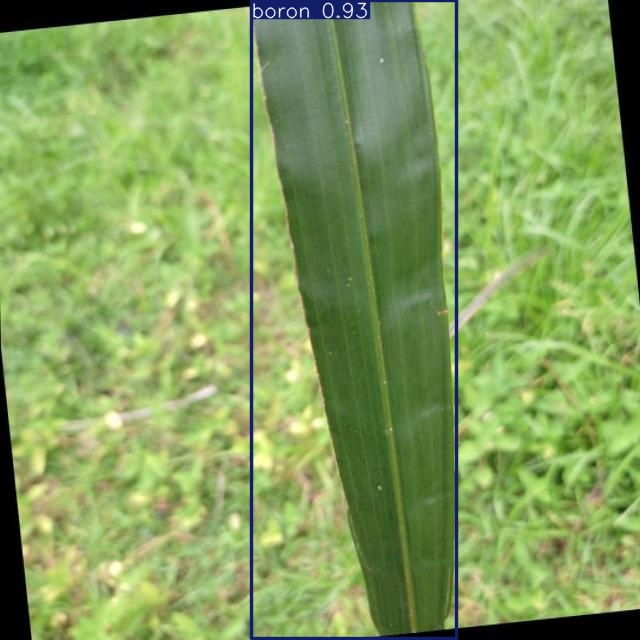nitrogen: (251, 0, 457, 639)
